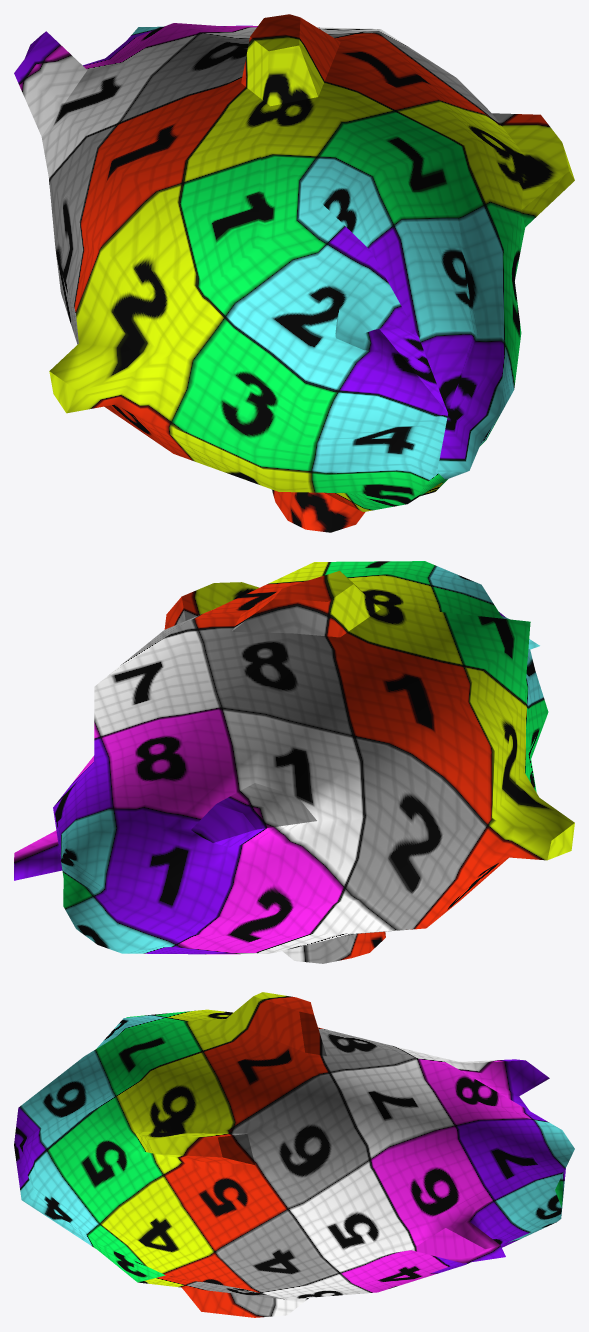
Rendered from Oggetto_Esterno 1.FBX.
3 renders of one model, top to bottom at view 1: azimuth 30°, elevation 25°; view 2: azimuth 150°, elevation 25°; view 3: azimuth 270°, elevation 25°, orthographic. The views are drawn at different scales.
Visible parts, largest first — view 1: Oggetto_Estrerno001; view 2: Oggetto_Estrerno001; view 3: Oggetto_Estrerno001.
Part boxes in pixels (x1,y1,x2,y2): Oggetto_Estrerno001: (14, 14, 574, 532); Oggetto_Estrerno001: (14, 561, 574, 963); Oggetto_Estrerno001: (14, 992, 574, 1317).
Bounding box in the file's own units: 716 × 657 × 1056.
1 material, 1 textured.
